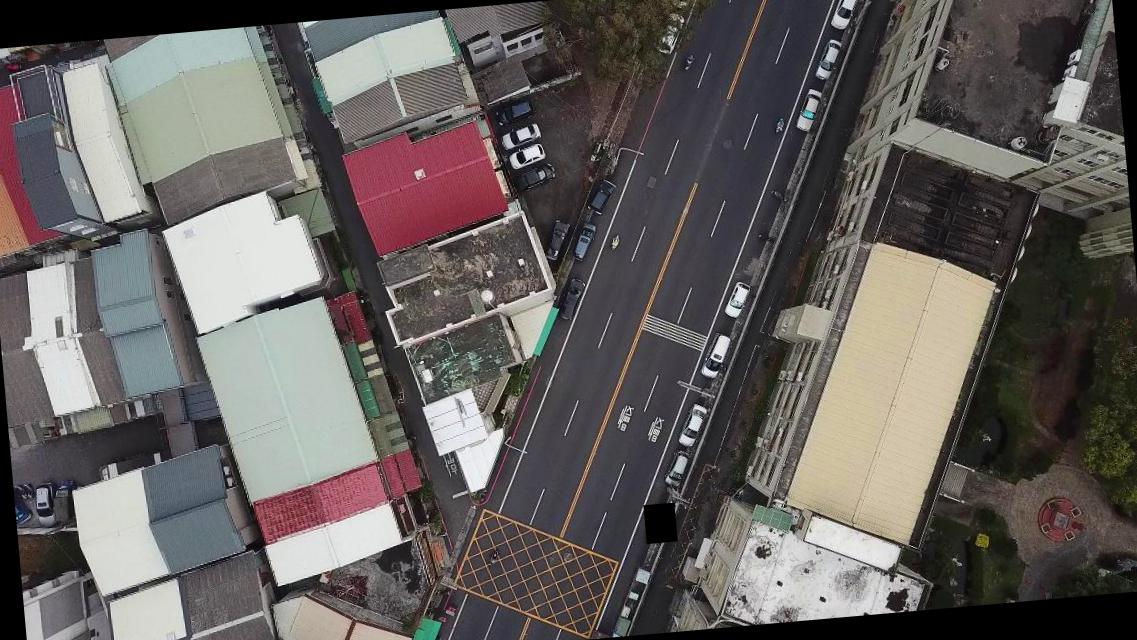vehicle: (673, 401, 714, 449), (696, 332, 734, 381), (652, 8, 688, 56), (554, 276, 589, 323), (792, 88, 826, 134), (812, 38, 846, 82), (541, 218, 573, 262), (661, 448, 695, 488), (722, 280, 755, 319), (586, 176, 618, 216), (500, 122, 544, 150), (492, 98, 536, 126), (826, 0, 863, 33), (516, 162, 558, 190), (507, 142, 546, 172), (570, 222, 599, 262), (32, 481, 54, 528)
